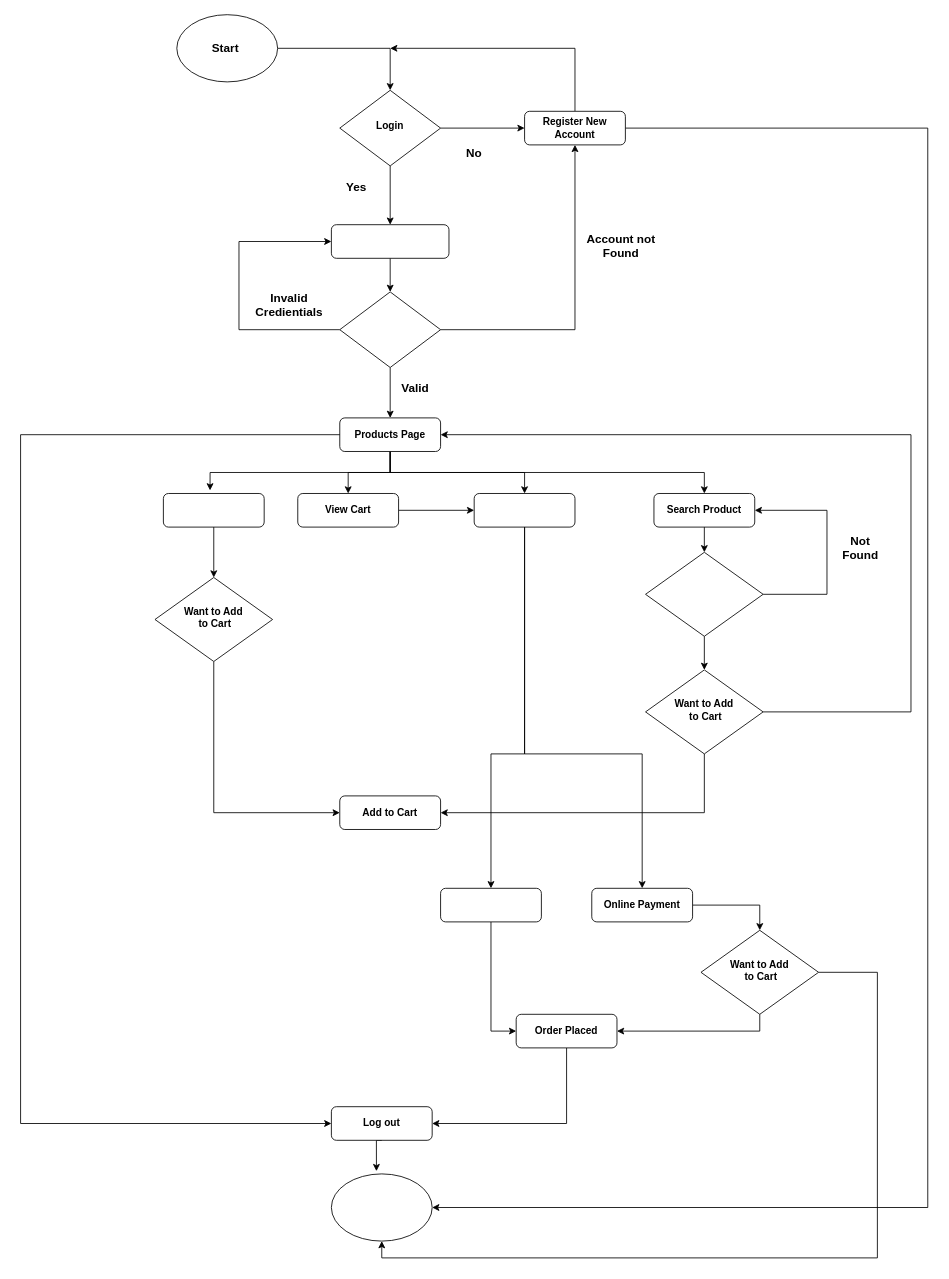
This 949x1279 diagram has some shape labels left out. The shapes that lost their labels are listed below. From the top down, each one's centre as x and y in pixels, then its label:
the point at 390,241: Enter Email and Password
the point at 390,329: Verify User Credential's
the point at 213,510: View Product
the point at 524,510: Check Out
the point at 704,593: Search Product in list
the point at 490,904: COD
the point at 381,1207: END
